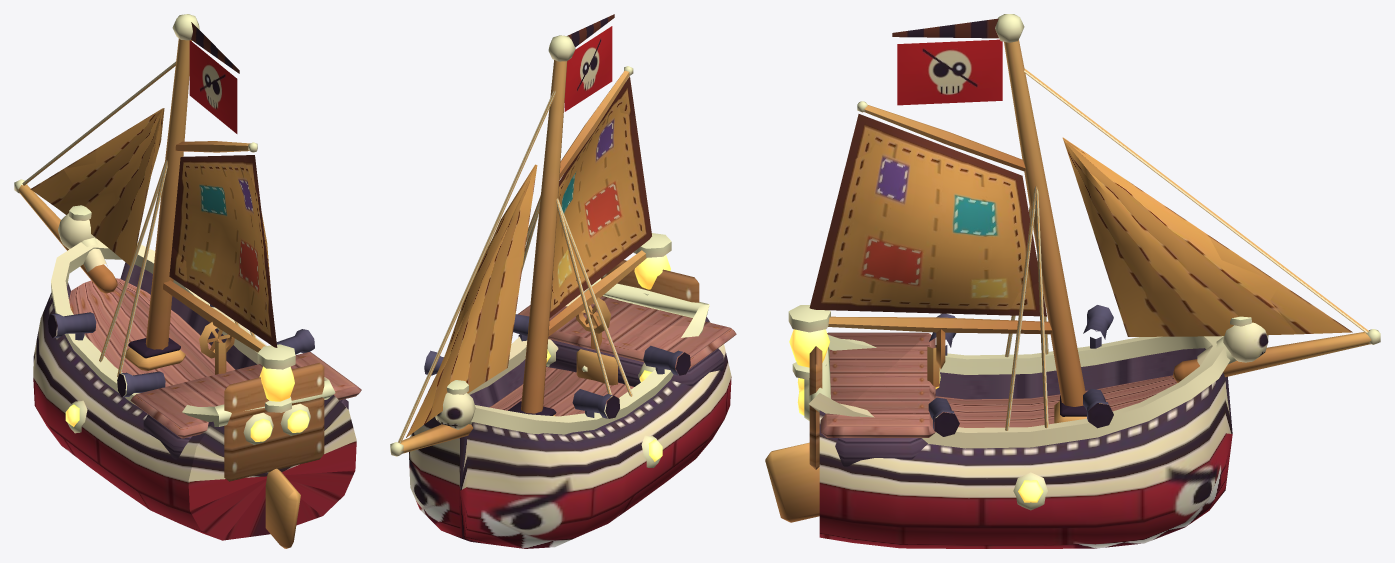
Rendered from brethren_cutter.glb.
3 renders of one model, left to right at view 1: azimuth 30°, elevation 25°; view 2: azimuth 150°, elevation 25°; view 3: azimuth 270°, elevation 25°, orthographic. The views are drawn at different scales.
Parts seen in each view (by area): view 1: Hull, Sail0_0, Rigging, Jib, Flag, Guns0; view 2: Hull, Rigging, Sail0_0, Jib, Flag, Guns0; view 3: Hull, Sail0_0, Jib, Rigging, Flag, Guns0.
Part boxes in pixels (bbox=[...]): Hull: bbox=[33, 205, 361, 548]; Sail0_0: bbox=[169, 155, 277, 347]; Rigging: bbox=[14, 14, 265, 376]; Jib: bbox=[30, 108, 164, 265]; Flag: bbox=[189, 22, 239, 133]; Guns0: bbox=[48, 303, 314, 397]; Hull: bbox=[409, 233, 736, 548]; Rigging: bbox=[390, 35, 646, 456]; Sail0_0: bbox=[549, 76, 651, 317]; Jib: bbox=[406, 164, 537, 437]; Flag: bbox=[564, 14, 614, 111]; Guns0: bbox=[424, 314, 690, 418]; Hull: bbox=[765, 305, 1268, 548]; Sail0_0: bbox=[809, 114, 1046, 316]; Jib: bbox=[1062, 137, 1352, 336]; Rigging: bbox=[828, 14, 1380, 430]; Flag: bbox=[892, 18, 1002, 105]; Guns0: bbox=[928, 305, 1113, 436].
Size of the model in its own units: 1.1 by 2.24 by 2.46.
Materials: 8 (8 with a texture image).
